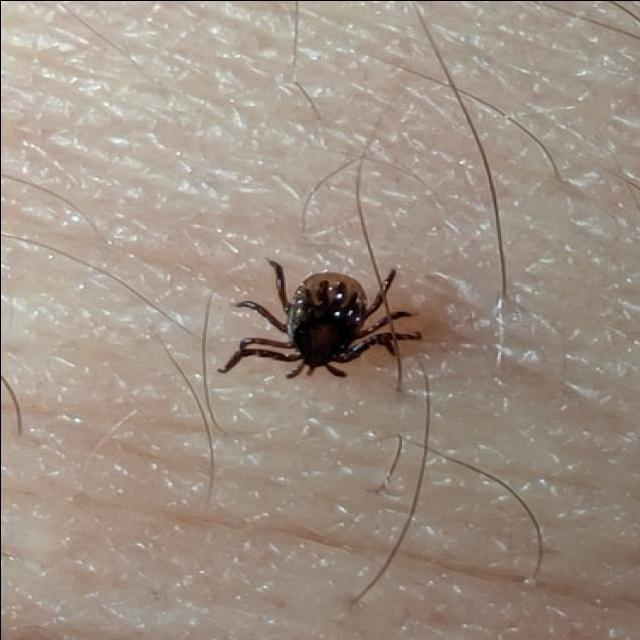Ixodes Ricinus-M: (217, 259, 422, 379)
